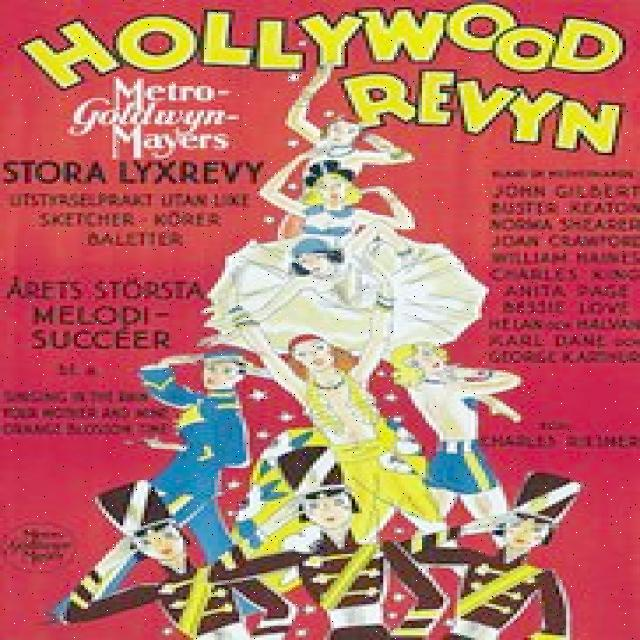movie-judul: (1, 0, 633, 153)
picture: (94, 66, 575, 640)
